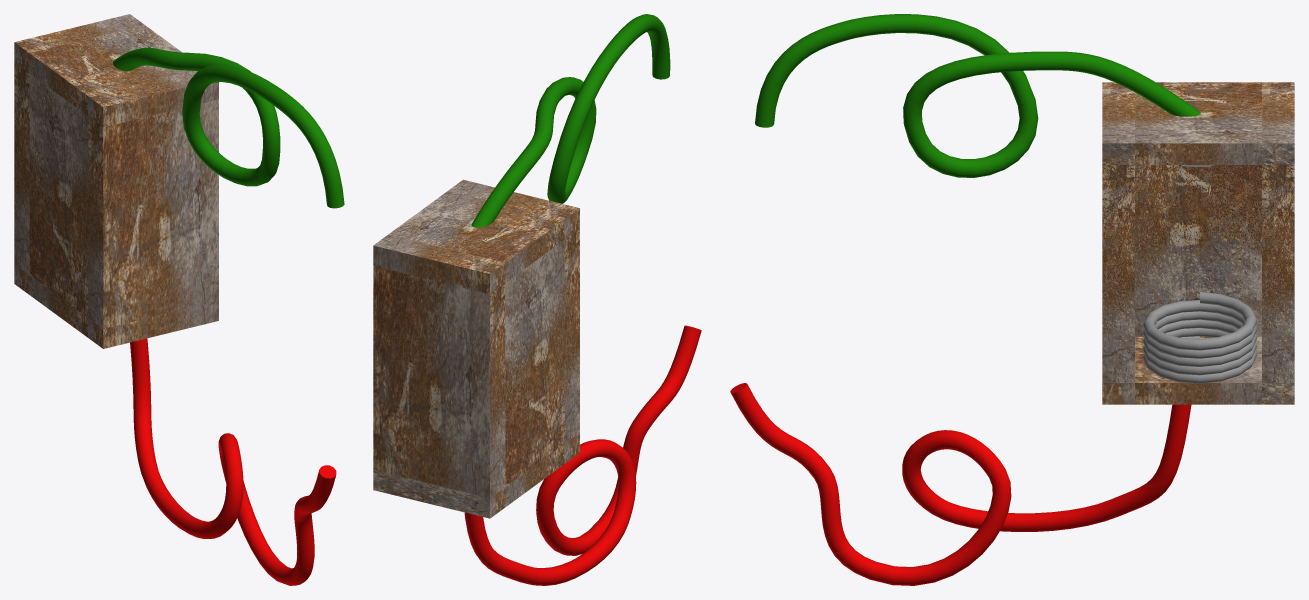
The model's file is batterybox.fbx.
The picture shows the model from 3 angles, left to right: view 1: azimuth 30°, elevation 25°; view 2: azimuth 150°, elevation 25°; view 3: azimuth 270°, elevation 25°; orthographic projection. The views are drawn at different scales.
Visible parts, largest first — view 1: Box, WireBottom, WireTop; view 2: Box, WireBottom, WireTop; view 3: Box, WireBottom, WireTop, ThinSpiral.
Part boxes in pixels (x1,y1,x2,y2): Box: [14, 14, 218, 348]; WireBottom: [130, 338, 336, 585]; WireTop: [113, 47, 344, 208]; Box: [373, 179, 579, 518]; WireBottom: [464, 325, 701, 585]; WireTop: [471, 14, 670, 227]; Box: [1102, 82, 1294, 404]; WireBottom: [730, 383, 1191, 585]; WireTop: [755, 14, 1200, 177]; ThinSpiral: [1143, 291, 1256, 383].
Bounding box in the file's own units: 619 × 2546 × 2348.
